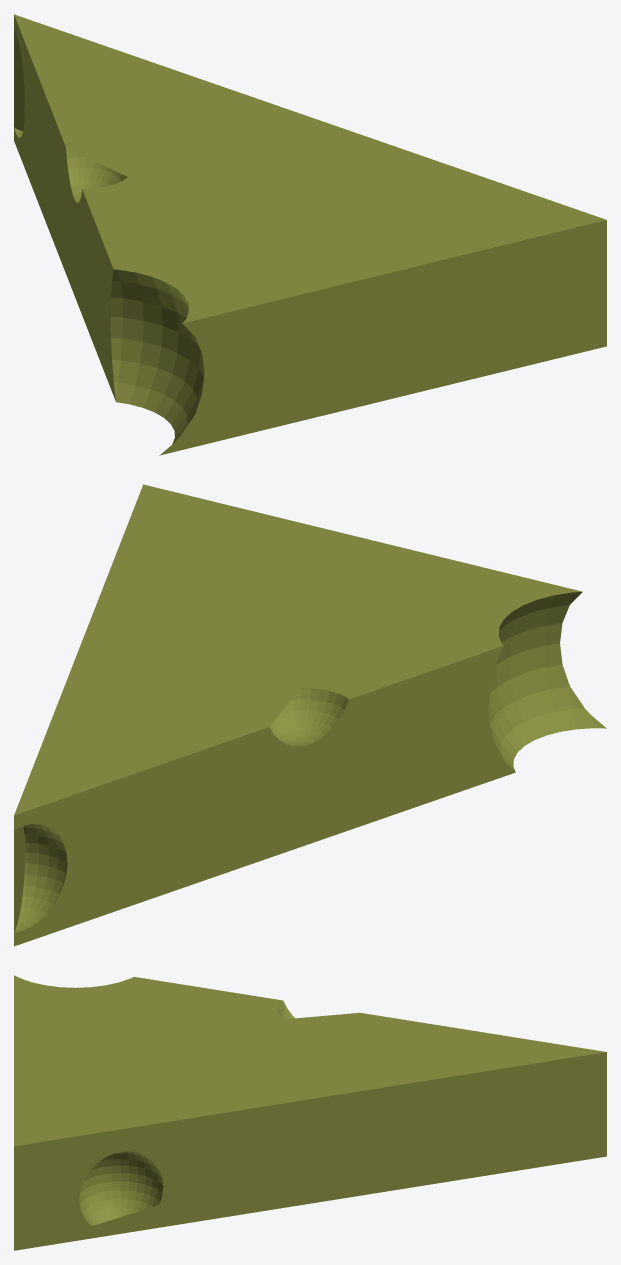
3 views of the same model, one above another, from view 1: azimuth 30°, elevation 25°; view 2: azimuth 150°, elevation 25°; view 3: azimuth 270°, elevation 25° (orthographic). The views are drawn at different scales.
Visible parts, largest first — view 1: Cylinder; view 2: Cylinder; view 3: Cylinder.
Part boxes in pixels (x1=…): Cylinder: x1=14, y1=14, x2=606, y2=455; Cylinder: x1=14, y1=484, x2=606, y2=946; Cylinder: x1=14, y1=975, x2=606, y2=1250.
Bounding box in the file's own units: 337 × 90.83 × 467.
